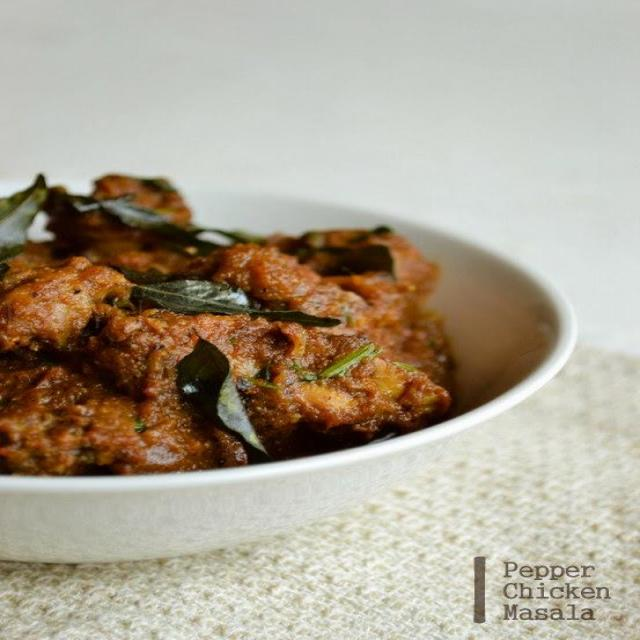chicken: (0, 170, 488, 474)
